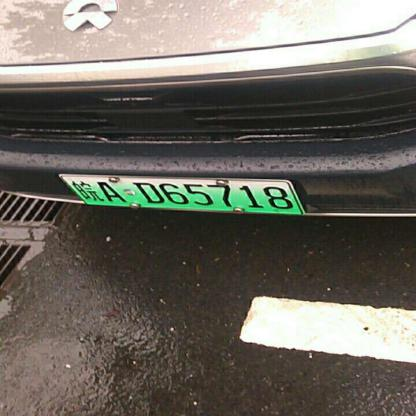lp: (58, 174, 304, 214)
